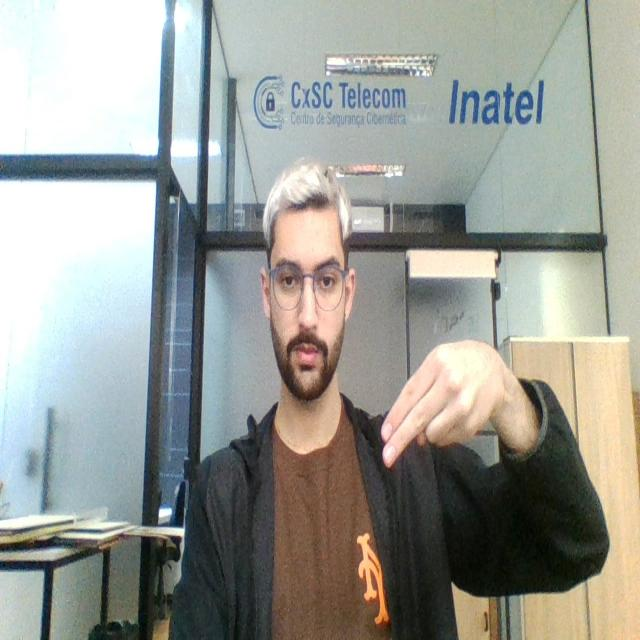N: (375, 336, 507, 468)
